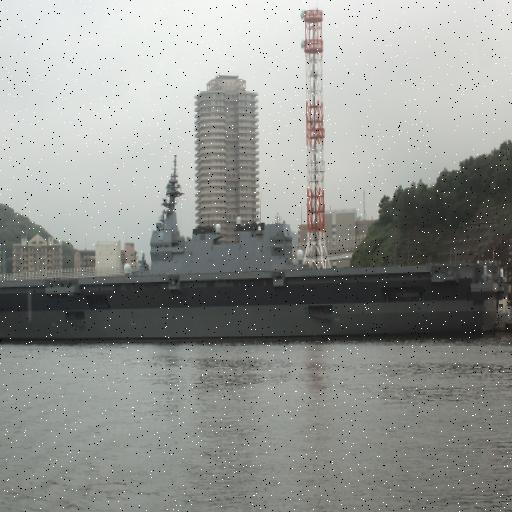Portanaves: (1, 149, 512, 346)
